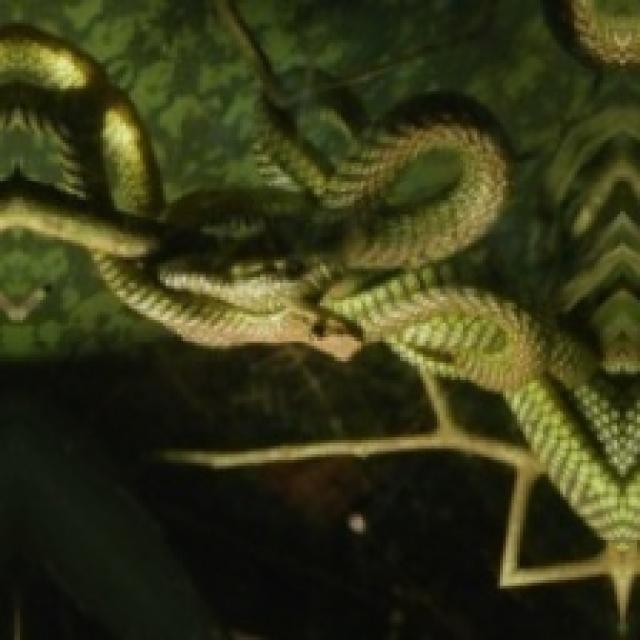paradise tree snake: (0, 0, 637, 637), (363, 120, 509, 306), (0, 34, 114, 209)
